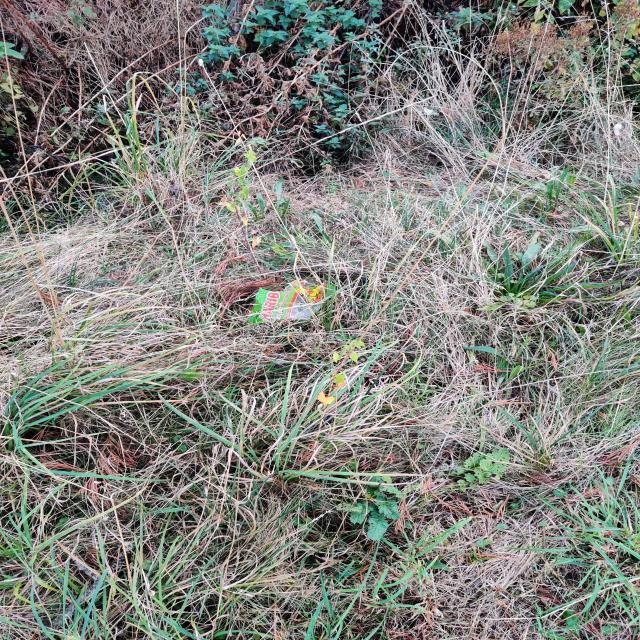litter: (211, 261, 359, 357)
